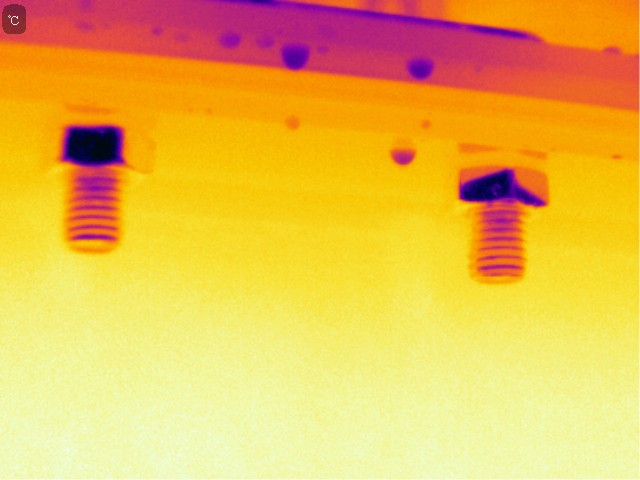Water: (400, 52, 440, 90), (279, 42, 315, 79), (388, 141, 425, 170)
